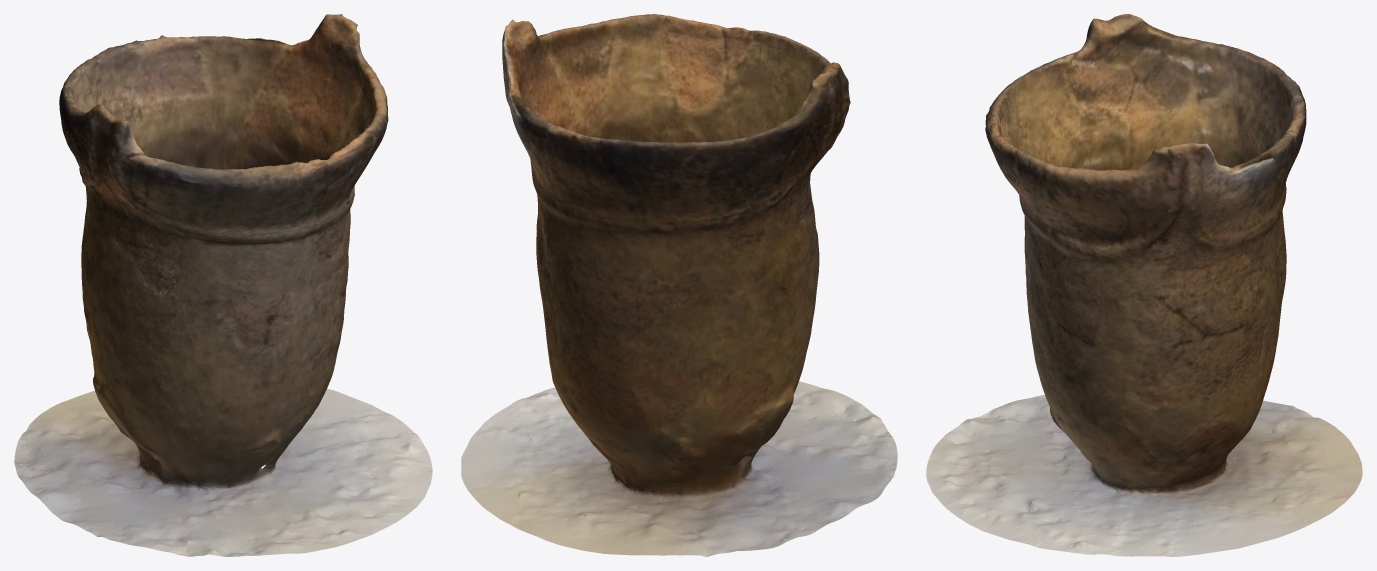
Rendered from Atagoiseki.glb.
The picture shows the model from 3 angles, left to right: view 1: azimuth 30°, elevation 25°; view 2: azimuth 150°, elevation 25°; view 3: azimuth 270°, elevation 25°; orthographic projection. The views are drawn at different scales.
Parts seen in each view (by area): view 1: mesh; view 2: mesh; view 3: mesh.
Part boxes in pixels (x1=…): mesh: x1=14, y1=14, x2=432, y2=556; mesh: x1=461, y1=14, x2=897, y2=556; mesh: x1=926, y1=14, x2=1362, y2=556.
Size of the model in its own units: 0.259 by 0.2813 by 0.277.
1 material, 1 textured.
